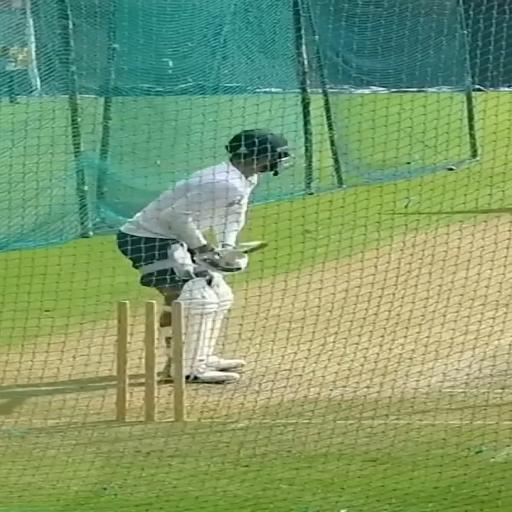Cricket bat: (236, 240, 267, 254)
